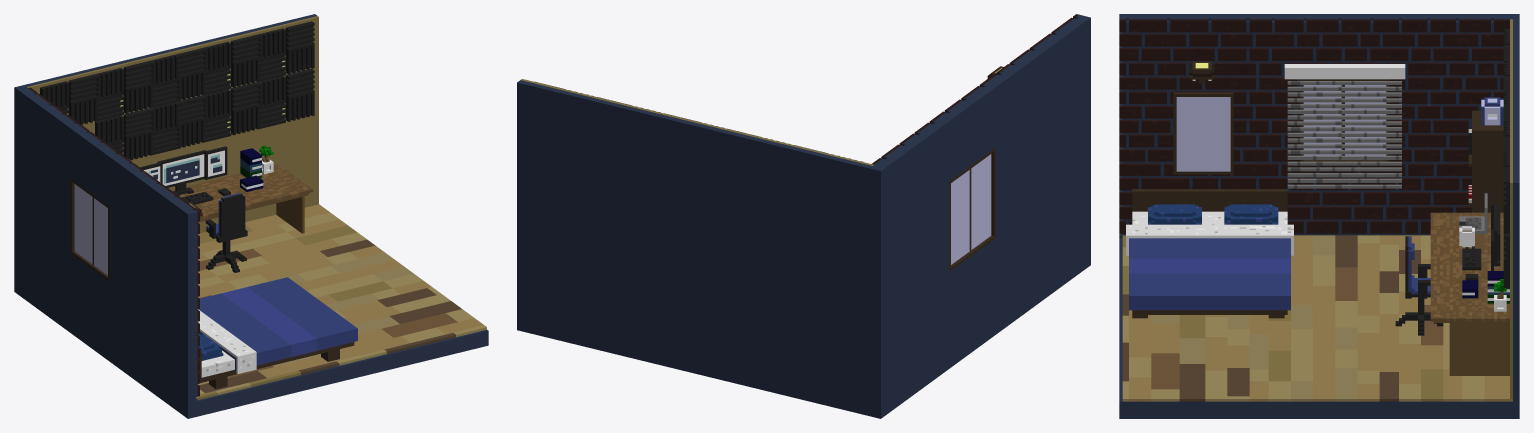
The model's file is quarto.glb.
3 renders of one model, left to right at view 1: azimuth 30°, elevation 25°; view 2: azimuth 150°, elevation 25°; view 3: azimuth 270°, elevation 25°, orthographic. The views are drawn at different scales.
Visible parts, largest first — view 1: Untitled; view 2: Untitled; view 3: Untitled.
Part boxes in pixels (x1=…): Untitled: x1=14, y1=14, x2=488, y2=418; Untitled: x1=517, y1=14, x2=1090, y2=418; Untitled: x1=1119, y1=14, x2=1519, y2=418.
Bounding box in the file's own units: 12.6 × 8.2 × 12.6.
1 material, 1 textured.
